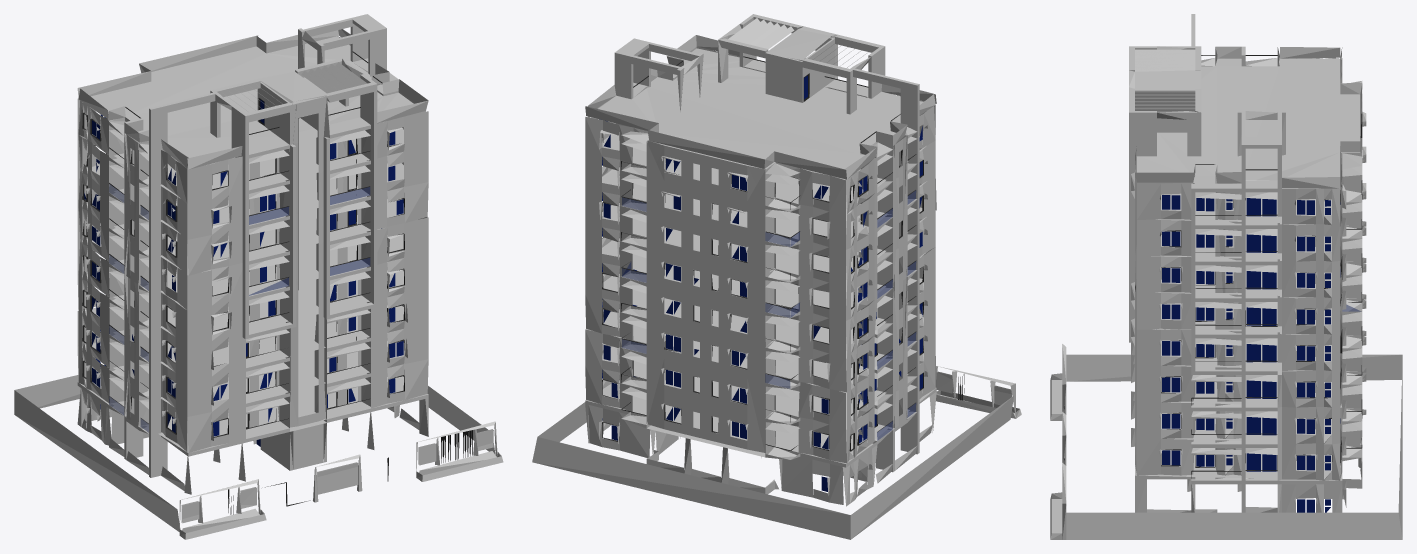
The model's file is sf_apartment_4.glb.
The picture shows the model from 3 angles, left to right: view 1: azimuth 30°, elevation 25°; view 2: azimuth 150°, elevation 25°; view 3: azimuth 270°, elevation 25°; orthographic projection. The views are drawn at different scales.
Parts seen in each view (by area): view 1: Object_4, Object_6, Object_11, Object_8; view 2: Object_4, Object_11, Object_6, Object_8; view 3: Object_4, Object_11, Object_6.
Boxes of the visible parts, box(x1,y1,x2,y2) form: Object_4: box(14, 14, 503, 539); Object_6: box(82, 51, 472, 514); Object_11: box(84, 99, 403, 446); Object_8: box(109, 184, 369, 432); Object_4: box(532, 14, 1021, 539); Object_11: box(602, 75, 922, 491); Object_6: box(602, 56, 964, 451); Object_8: box(622, 191, 915, 440); Object_4: box(1050, 14, 1402, 539); Object_11: box(1162, 195, 1340, 512); Object_6: box(1064, 55, 1362, 478).
Size of the model in its own units: 16.11 by 18 by 15.
